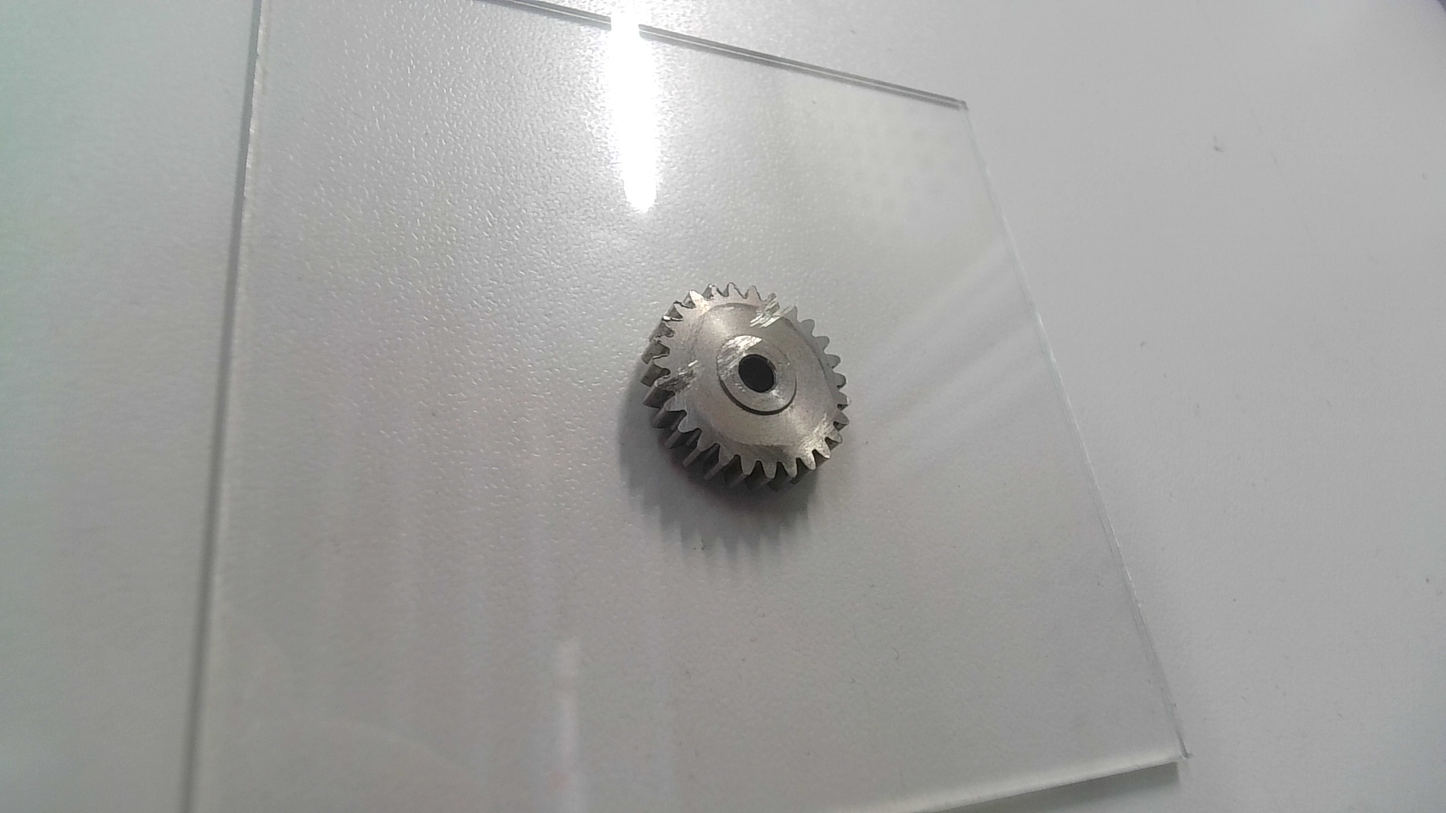gear: (636, 278, 853, 497)
